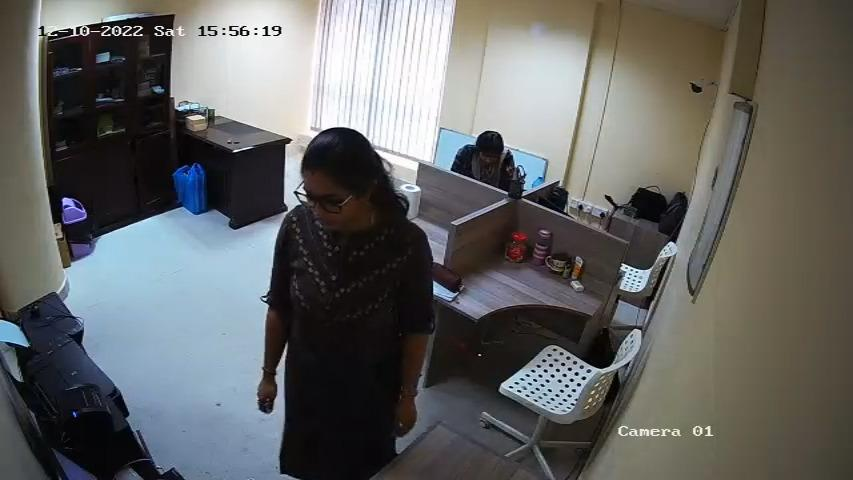no_gloves: (387, 396, 418, 441), (255, 374, 280, 414)
